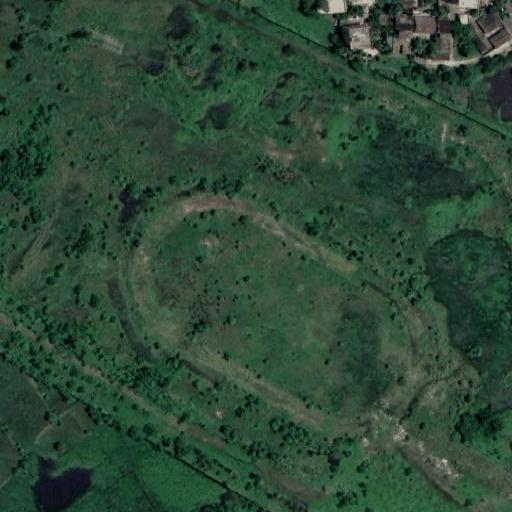building: (487, 67, 512, 121), (475, 12, 498, 35), (349, 27, 371, 50), (488, 27, 511, 48), (470, 31, 491, 54), (414, 16, 436, 35), (487, 6, 505, 27), (393, 36, 412, 54), (397, 11, 413, 30), (437, 32, 451, 49), (458, 0, 480, 9), (436, 19, 450, 32), (353, 0, 378, 6), (437, 49, 449, 61)
